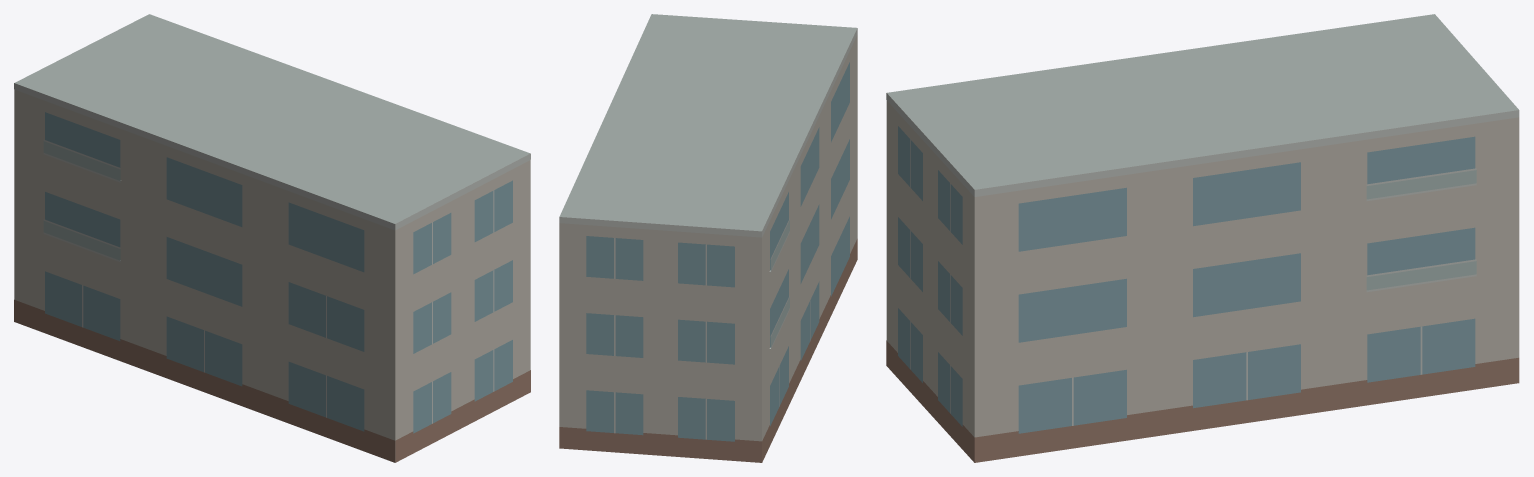
Rendered from survey-upis-32793281.glb.
The picture shows the model from 3 angles, left to right: view 1: azimuth 30°, elevation 25°; view 2: azimuth 150°, elevation 25°; view 3: azimuth 270°, elevation 25°; orthographic projection. The views are drawn at different scales.
Parts seen in each view (by area): view 1: survey-upis-32793281.tmp; view 2: survey-upis-32793281.tmp; view 3: survey-upis-32793281.tmp.
Boxes of the visible parts, bbox=[...] form: survey-upis-32793281.tmp: bbox=[14, 14, 530, 462]; survey-upis-32793281.tmp: bbox=[559, 14, 857, 462]; survey-upis-32793281.tmp: bbox=[886, 14, 1519, 462].
Size of the model in its own units: 12.65 by 9.15 by 19.23.
